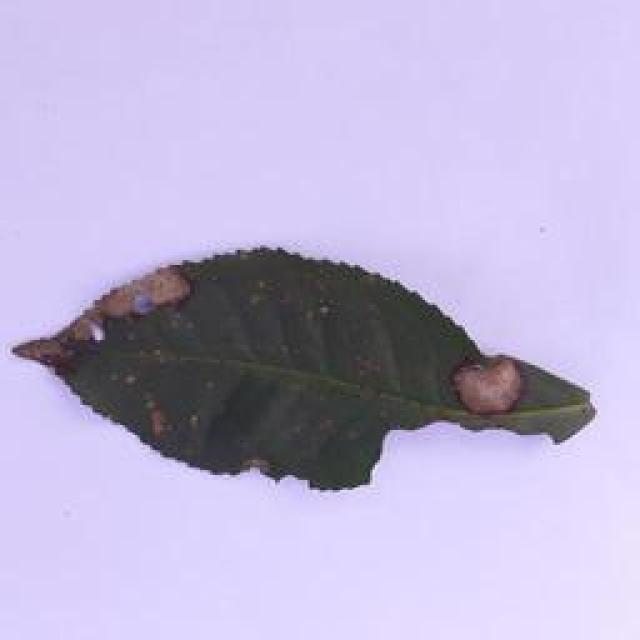Gray Blight: (11, 242, 600, 497)
